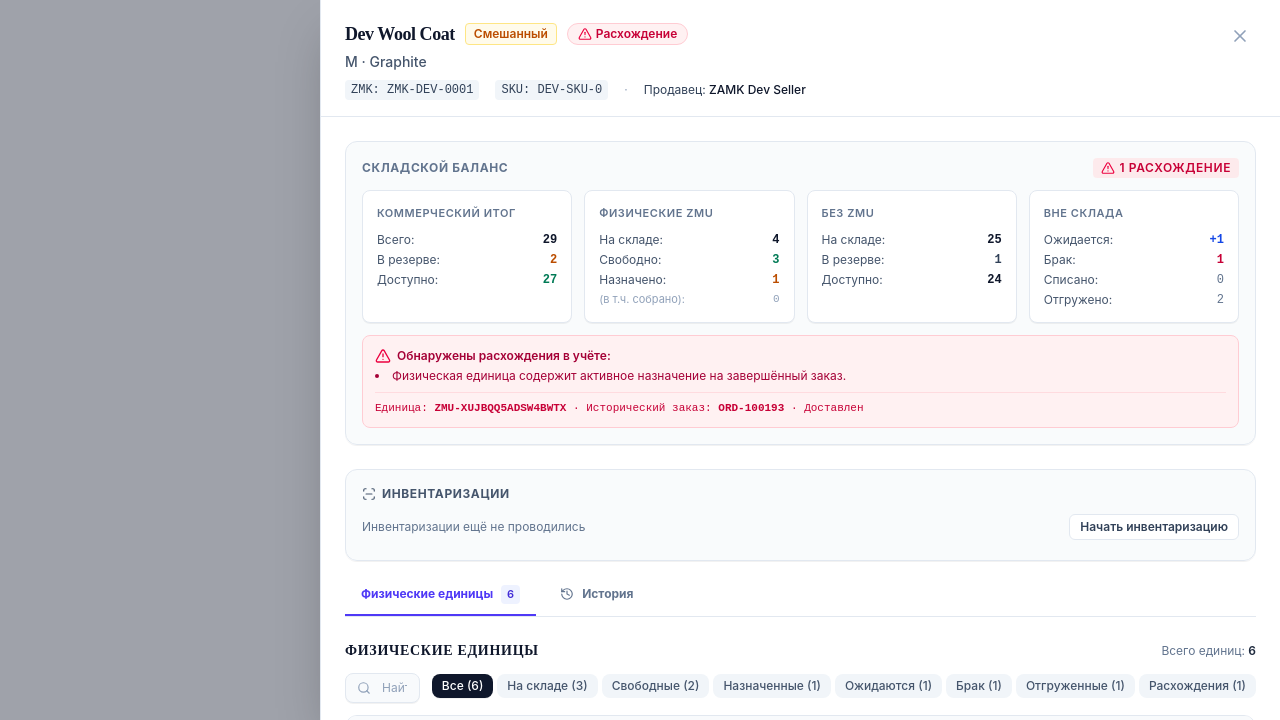
Test case: VariantInventoryDrawer › switches between "Физические единицы" and "История" tabs
Check: the heading "Dev Wool Coat" is shown, box left=345, top=20, right=455, bottom=48
Check: the button "Физические единицы 6" is shown, box left=345, top=585, right=536, bottom=616
Switch to history tab
Click the button "История": {"x": 597, "y": 601} left=544, top=585, right=650, bottom=616
(page scrolled)
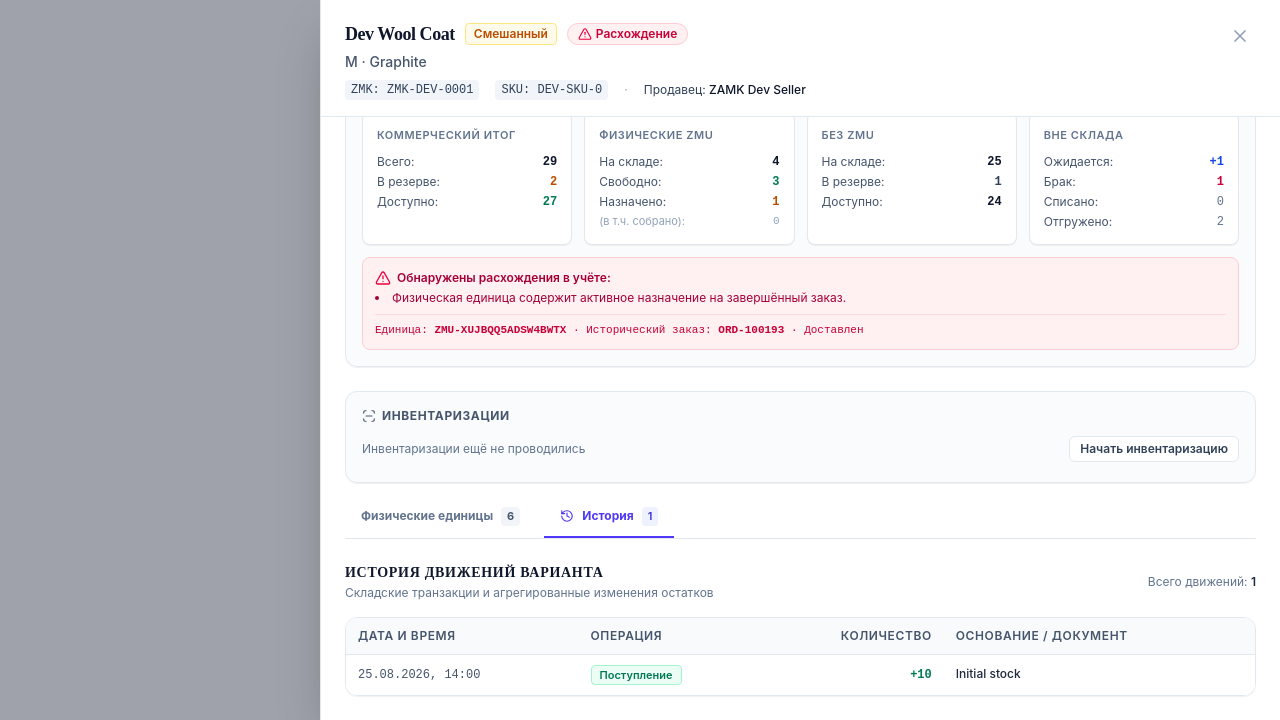
Check: the heading "История движений варианта" is shown, box left=345, top=565, right=604, bottom=580
Check: the text "Initial stock" is shown, box left=956, top=666, right=1021, bottom=681
Check: the text "Поступление" is shown, box left=590, top=665, right=682, bottom=686
